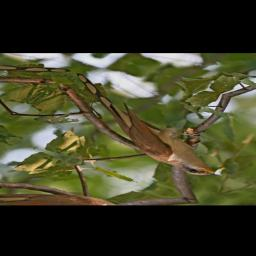Cuckoo: (14, 72, 256, 183)
